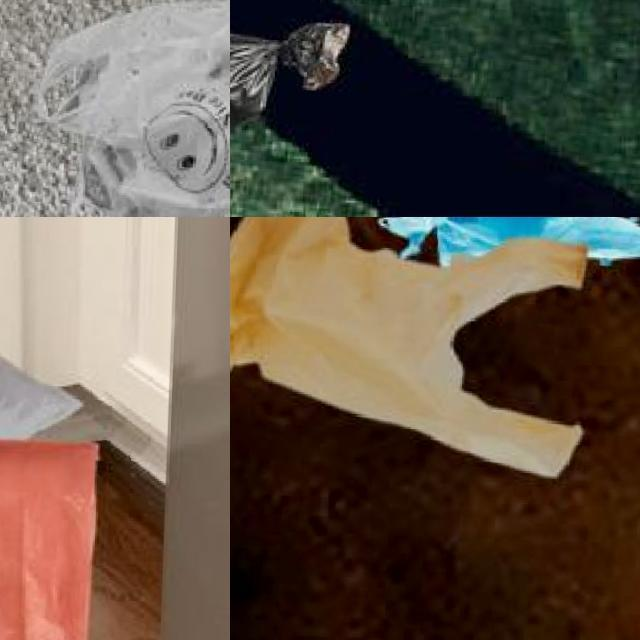waste: (230, 217, 592, 487), (29, 0, 230, 217), (0, 243, 83, 550), (230, 16, 349, 186), (0, 421, 92, 640)
